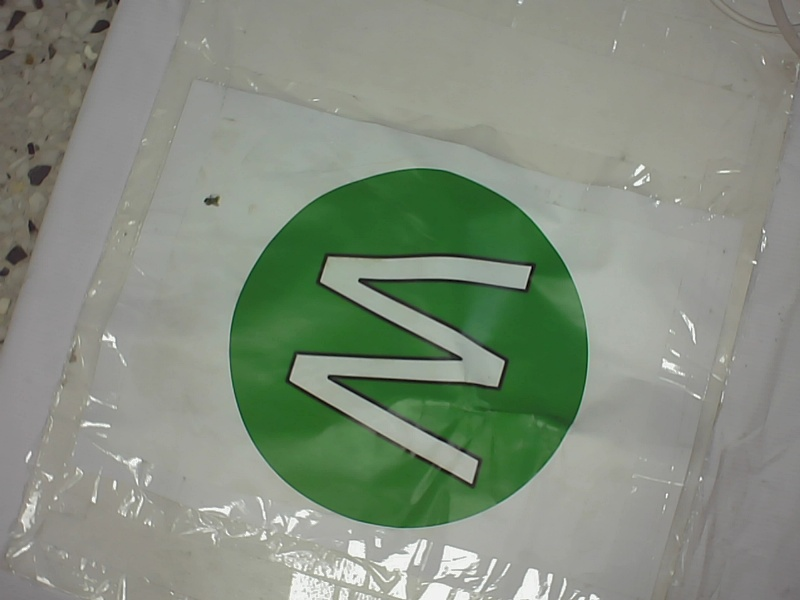areaB: (205, 169, 614, 533)
